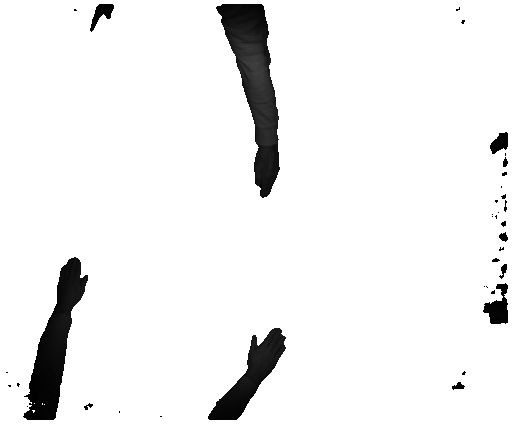hand: (248, 328, 287, 380), (57, 256, 87, 309), (251, 149, 279, 199)
